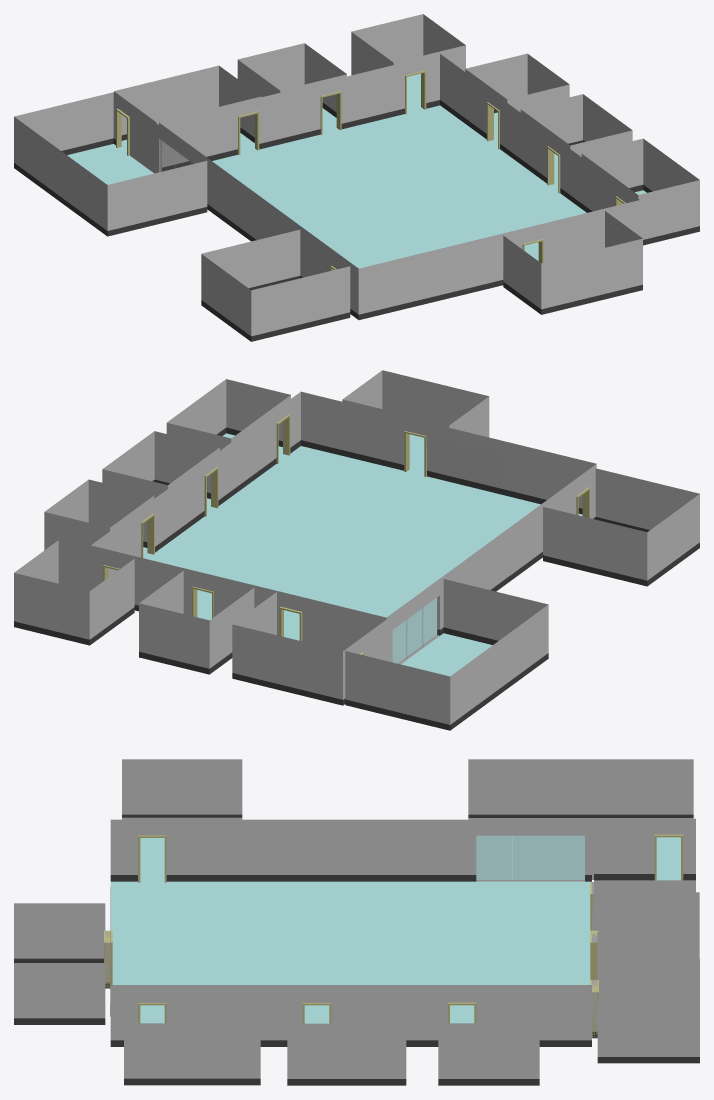
File: mainArea2.fbx
3 renders of one model, top to bottom at view 1: azimuth 30°, elevation 25°; view 2: azimuth 150°, elevation 25°; view 3: azimuth 270°, elevation 25°, orthographic. The views are drawn at different scales.
Visible parts, largest first — view 1: polySurface8; view 2: polySurface8; view 3: polySurface8.
Part boxes in pixels (x1,y1,x2,y2): polySurface8: (14,14,699,341); polySurface8: (14,370,699,730); polySurface8: (14,759,699,1085).
Size of the model in its own units: 3067 by 336 by 3364.
